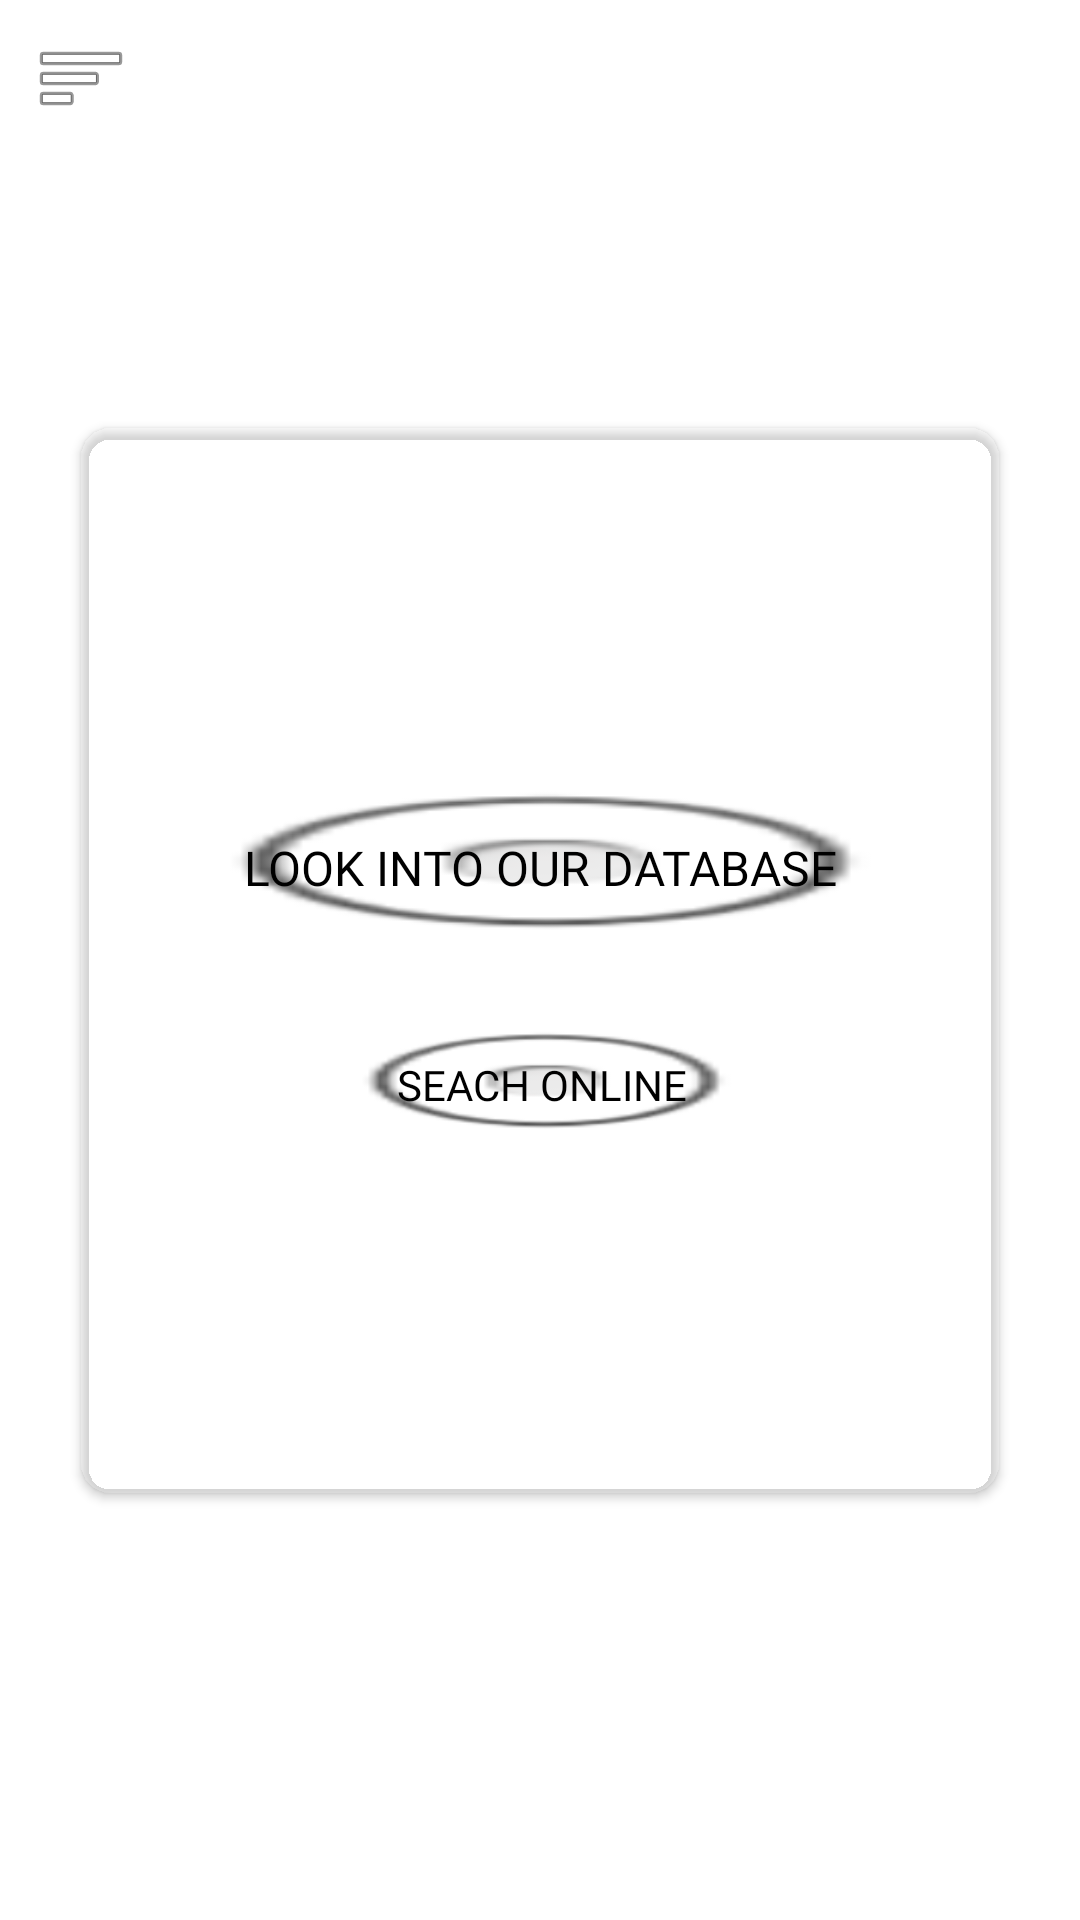

Icon bounding boxes for this 1080×1920 phone screenshot, format region(x1, y1, x2, y2):
sort by size: region(40, 52, 122, 105)
